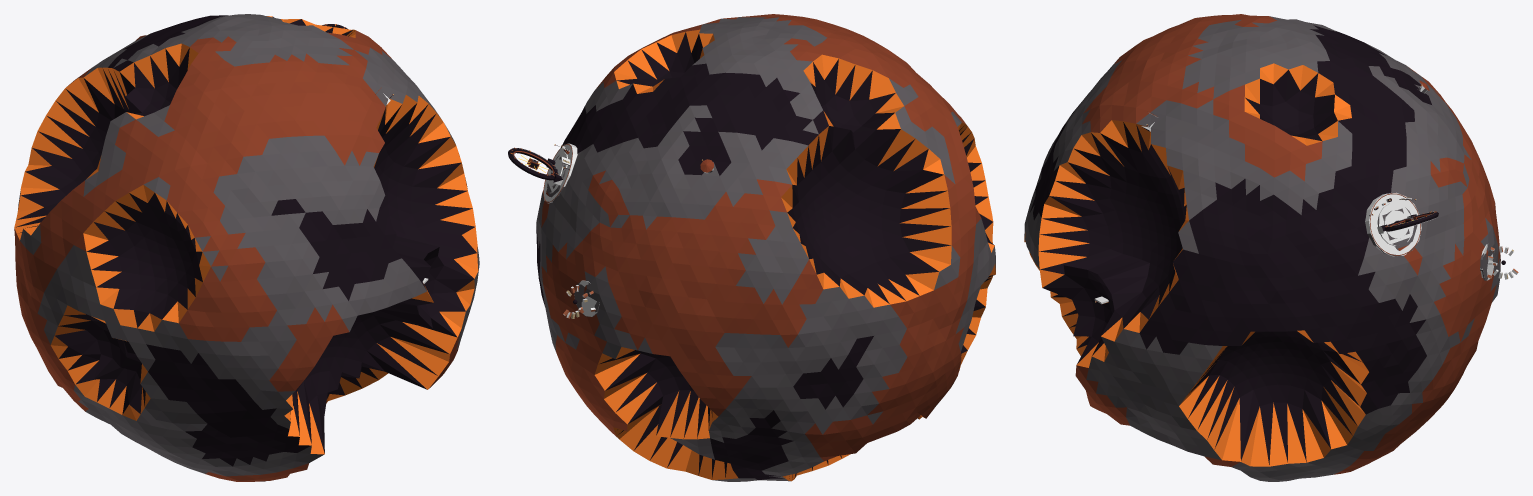
File: cicatriz.glb
The picture shows the model from 3 angles, left to right: view 1: azimuth 30°, elevation 25°; view 2: azimuth 150°, elevation 25°; view 3: azimuth 270°, elevation 25°; orthographic projection.
Parts seen in each view (by area): view 1: cicatriz_Terreno; view 2: cicatriz_Terreno, cicatriz_Lugares, COL_cicatriz_Lugares; view 3: cicatriz_Terreno, COL_cicatriz_Lugares, cicatriz_Lugares.
Boxes of the visible parts, box(x1,y1,x2,y2) form: cicatriz_Terreno: box(14, 14, 479, 481); cicatriz_Terreno: box(536, 14, 995, 481); cicatriz_Lugares: box(508, 144, 713, 318); COL_cicatriz_Lugares: box(514, 143, 713, 317); cicatriz_Terreno: box(1024, 14, 1500, 481); COL_cicatriz_Lugares: box(1094, 85, 1517, 304); cicatriz_Lugares: box(1095, 80, 1518, 303).
Bounding box in the file's own units: 159 × 161 × 169.
